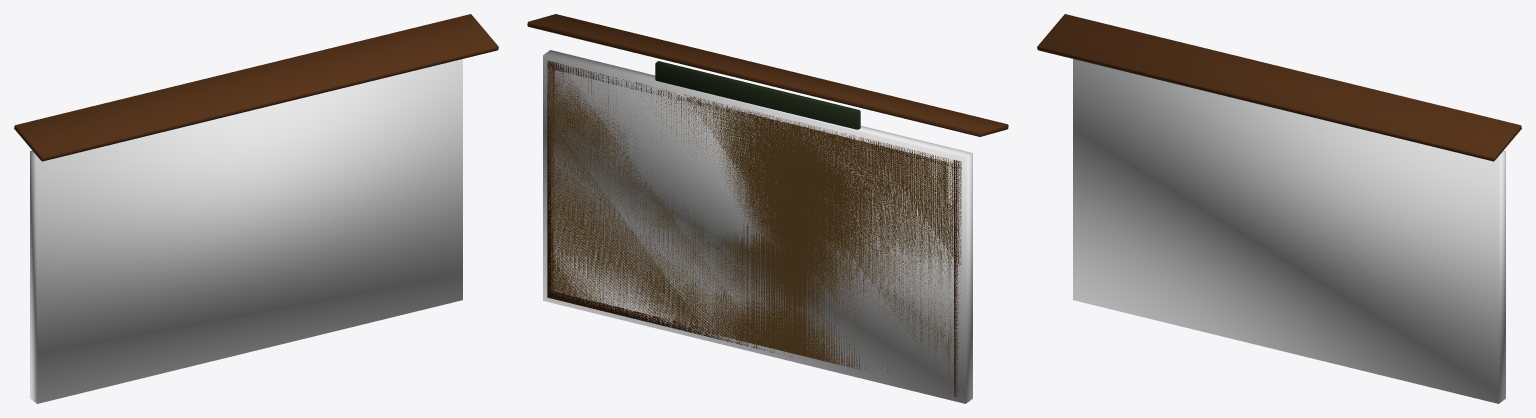
File: tablon_avisos.glb
3 views of the same model, side by side, from view 1: azimuth 30°, elevation 25°; view 2: azimuth 150°, elevation 25°; view 3: azimuth 330°, elevation 25° (orthographic).
Parts seen in each view (by area): view 1: tablon-colcaja, tablon; view 2: tablon, tablon-colcaja; view 3: tablon-colcaja, tablon.
Boxes of the visible parts, x1,y1,x2,y2 form: tablon-colcaja: (30, 59, 462, 403); tablon: (14, 14, 498, 161); tablon: (527, 14, 1008, 396); tablon-colcaja: (543, 50, 972, 403); tablon-colcaja: (1073, 59, 1505, 403); tablon: (1037, 14, 1521, 161).
Bounding box in the file's own units: 2.9 × 1.68 × 0.3148.
